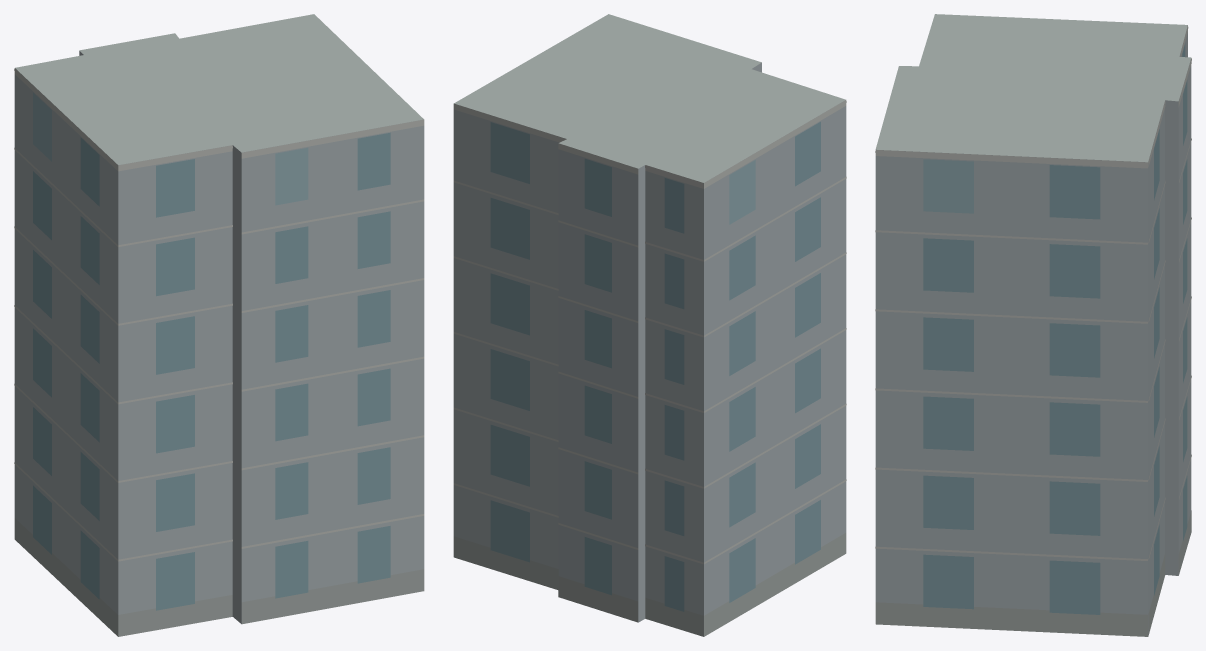
File: survey-upis-32994726.glb
3 views of the same model, side by side, from view 1: azimuth 30°, elevation 25°; view 2: azimuth 150°, elevation 25°; view 3: azimuth 270°, elevation 25° (orthographic). The views are drawn at different scales.
Visible parts, largest first — view 1: survey-upis-32994726.tmp; view 2: survey-upis-32994726.tmp; view 3: survey-upis-32994726.tmp.
Boxes of the visible parts, x1=… form: survey-upis-32994726.tmp: x1=14, y1=14, x2=424, y2=636; survey-upis-32994726.tmp: x1=453, y1=14, x2=846, y2=636; survey-upis-32994726.tmp: x1=875, y1=14, x2=1191, y2=636.
Size of the model in its own units: 12.45 by 18.55 by 11.22.
